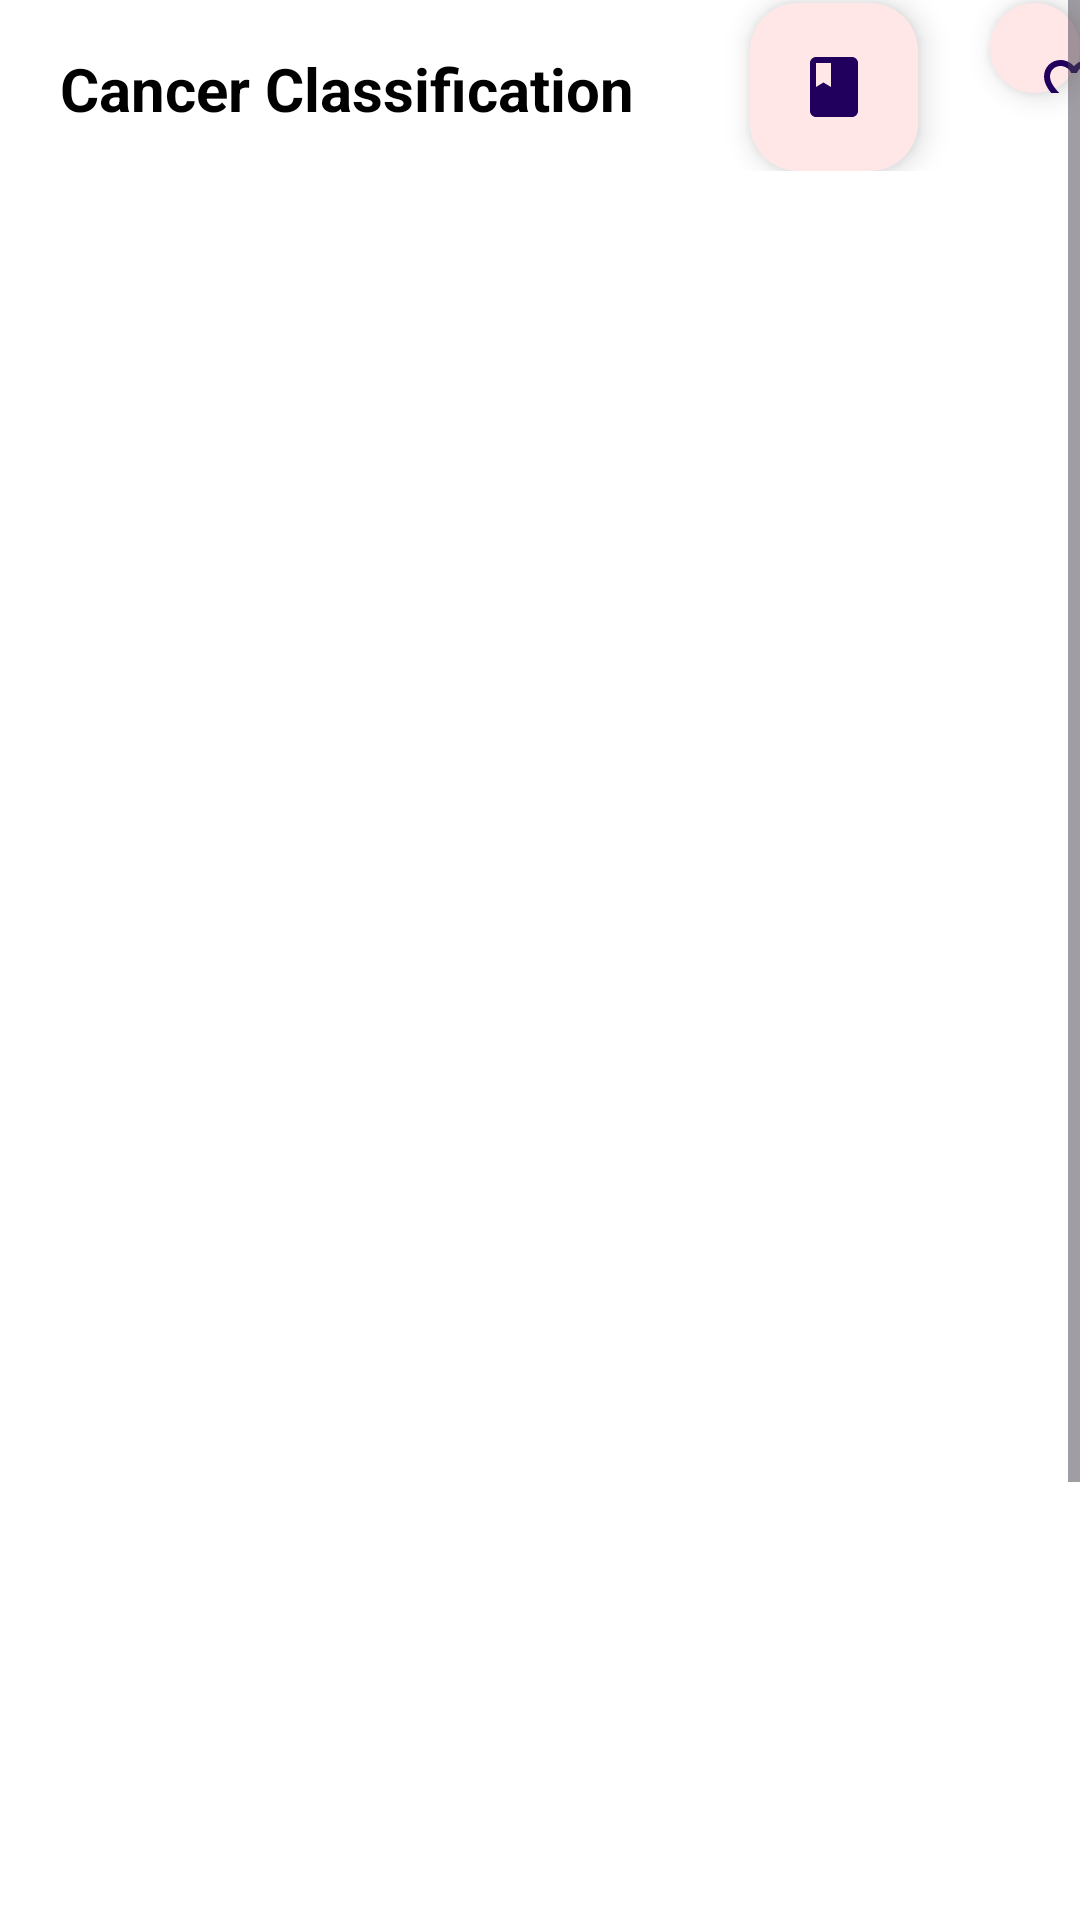

Icons on this 1080px x 1920px Android screen, each with its box as (x1, y1, x2, y2):
book: (750, 3, 918, 171)
